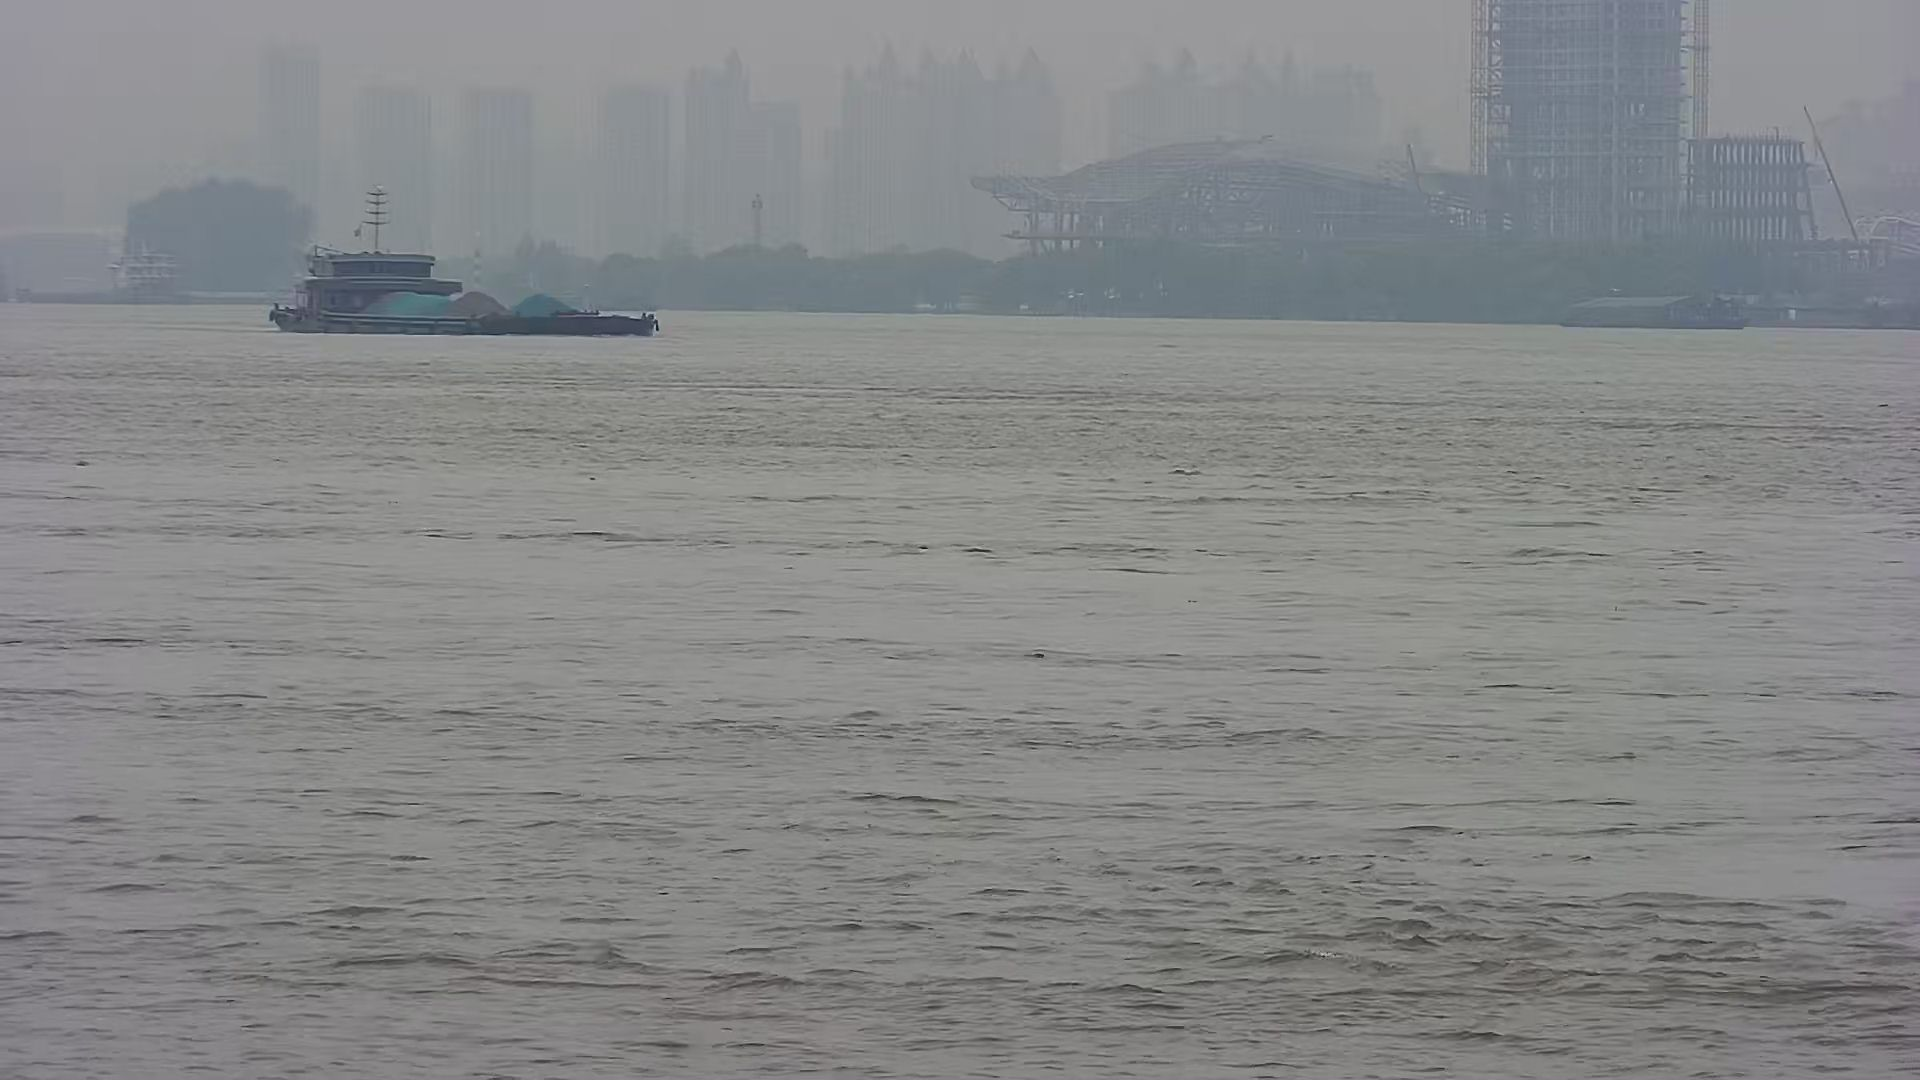ship: (251, 236, 676, 345), (1545, 273, 1763, 336)
